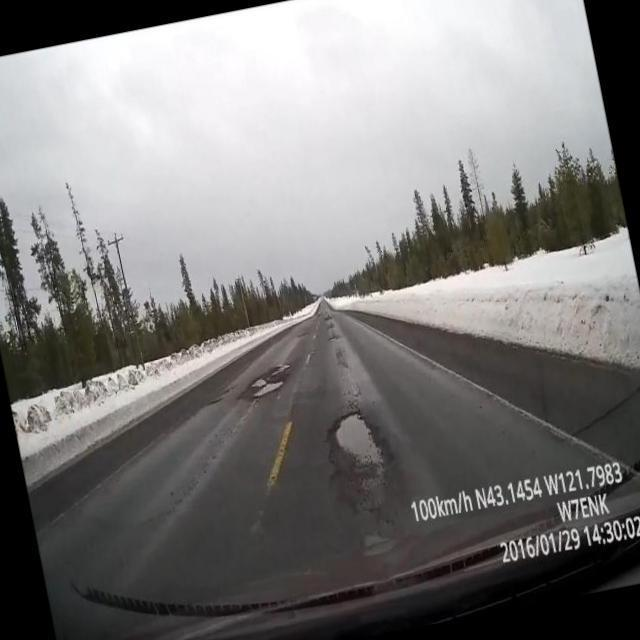Pothole: (333, 410, 388, 484), (253, 380, 284, 398), (270, 363, 291, 377), (250, 377, 267, 388)
